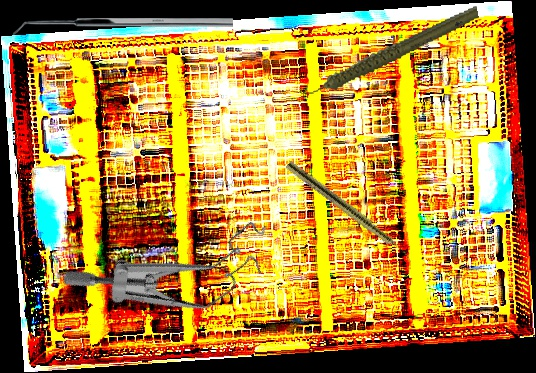Handpiece: (289, 3, 488, 100), (284, 159, 417, 265)
Spatula Surgical: (13, 18, 233, 35)
Speculum: (57, 159, 291, 373)
